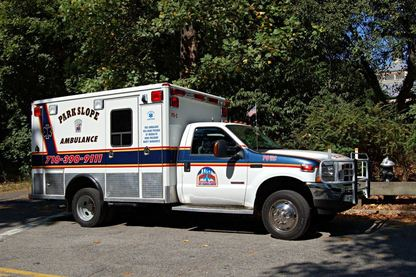ambulance: (28, 82, 370, 240)
